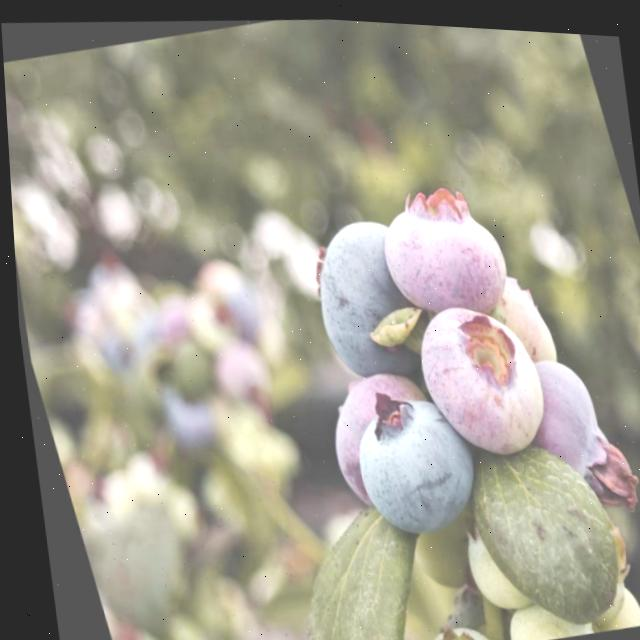RipeBlueBerry: (281, 200, 429, 384), (329, 379, 475, 538)
Semi-RipeBlueBerry: (397, 284, 552, 464), (364, 169, 516, 325)
